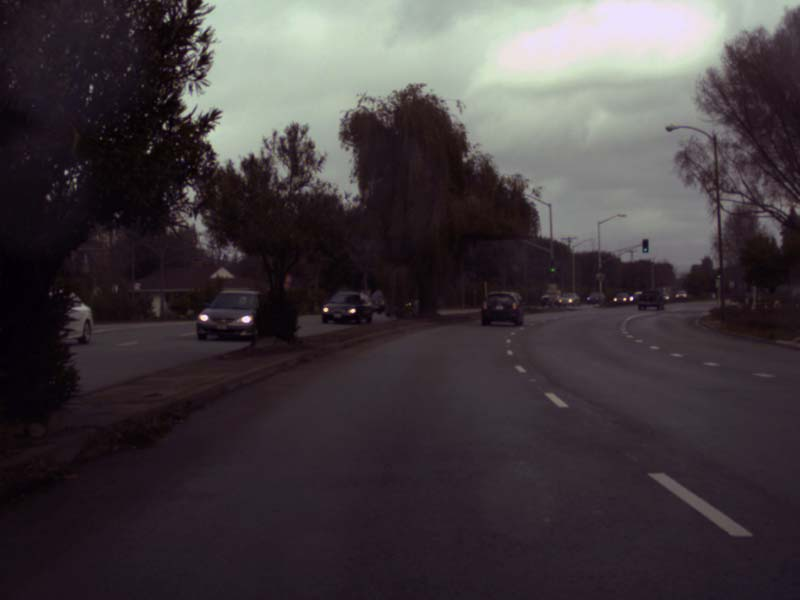Green: (548, 258, 557, 274), (642, 238, 647, 252), (717, 268, 722, 279), (598, 268, 602, 276)
